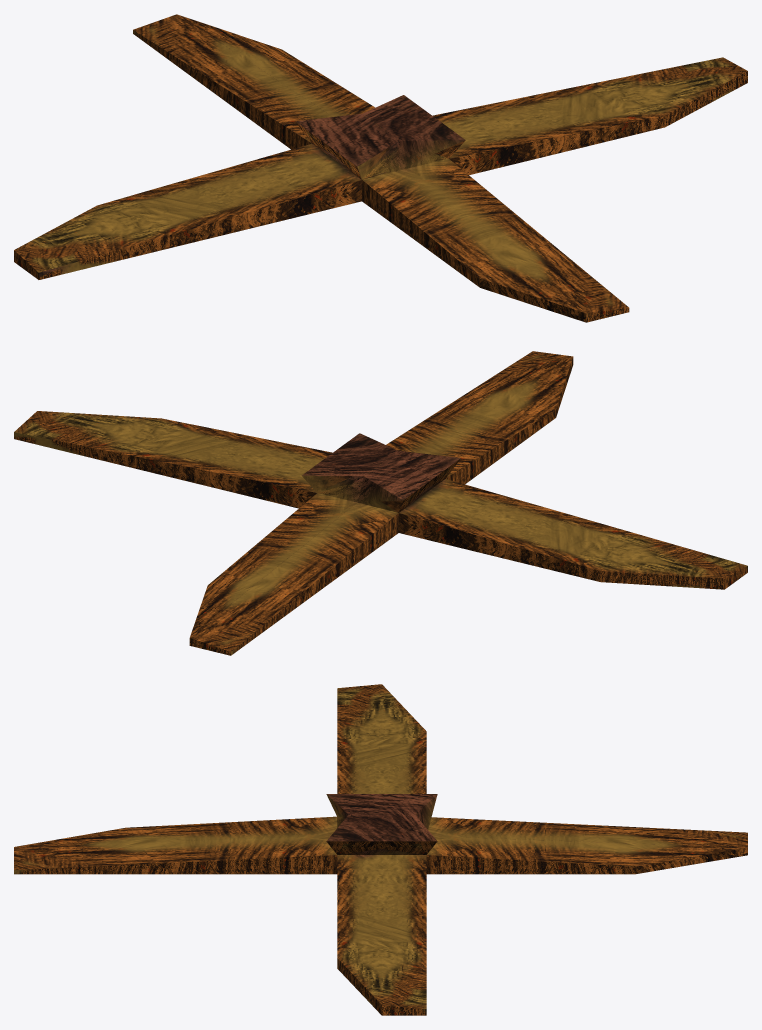
File: rudder 1.fbx
The picture shows the model from 3 angles, top to bottom: view 1: azimuth 30°, elevation 25°; view 2: azimuth 150°, elevation 25°; view 3: azimuth 270°, elevation 25°; orthographic projection. The views are drawn at different scales.
Visible parts, largest first — view 1: Cube; view 2: Cube; view 3: Cube.
Part boxes in pixels (left/top/right/bottom): Cube: left=14, top=14, right=747, bottom=322; Cube: left=14, top=351, right=747, bottom=655; Cube: left=14, top=684, right=747, bottom=1015.
Size of the model in its own units: 1702 by 100 by 1644.
